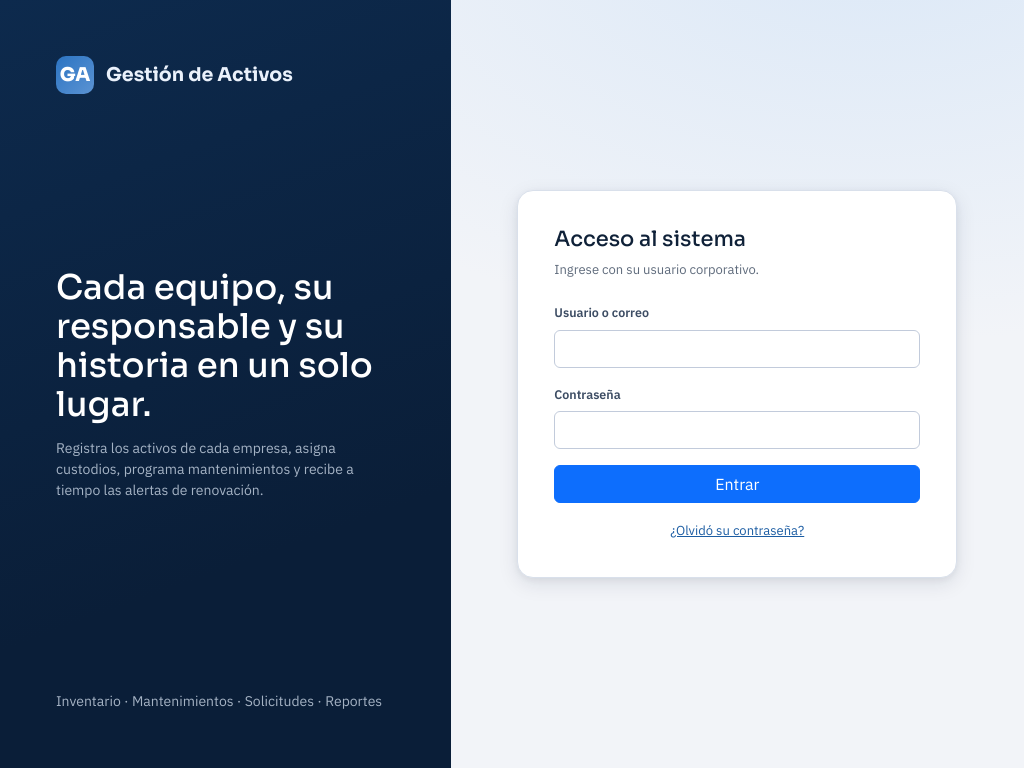
Iniciar sesión › sin respuesta del servidor tampoco se queda callado
The width and height of the screenshot is (1024, 768).
Step 1. Type "acevallos" into the field labelled "Usuario o correo" → point(737, 349), box [554, 330, 920, 368]
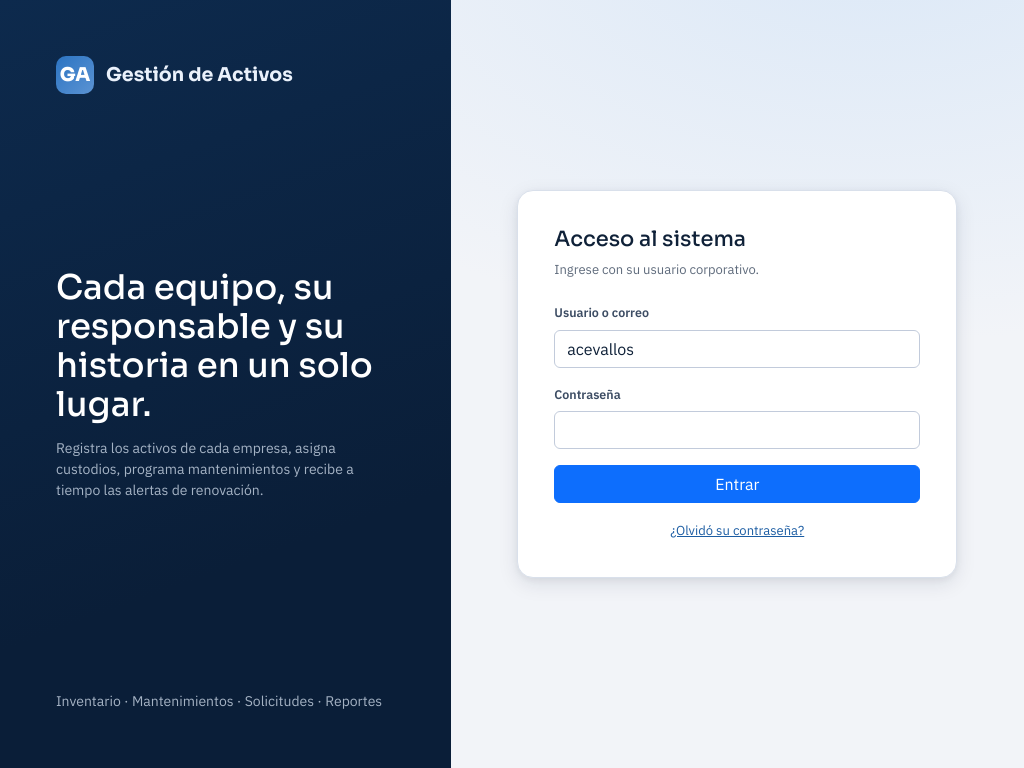
Step 2. Type "Contraseña.2026" into the password field labelled "Contraseña" → point(737, 430), box [554, 411, 920, 449]
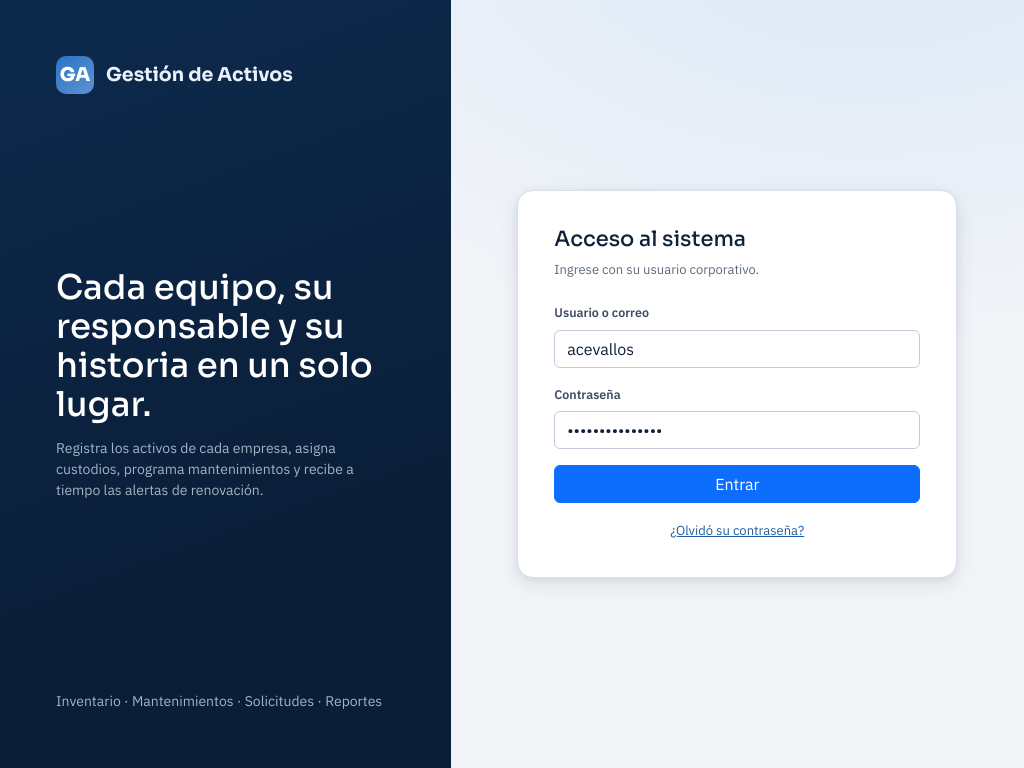
Step 3. Click the button "Entrar" → point(737, 484), box [554, 465, 920, 503]
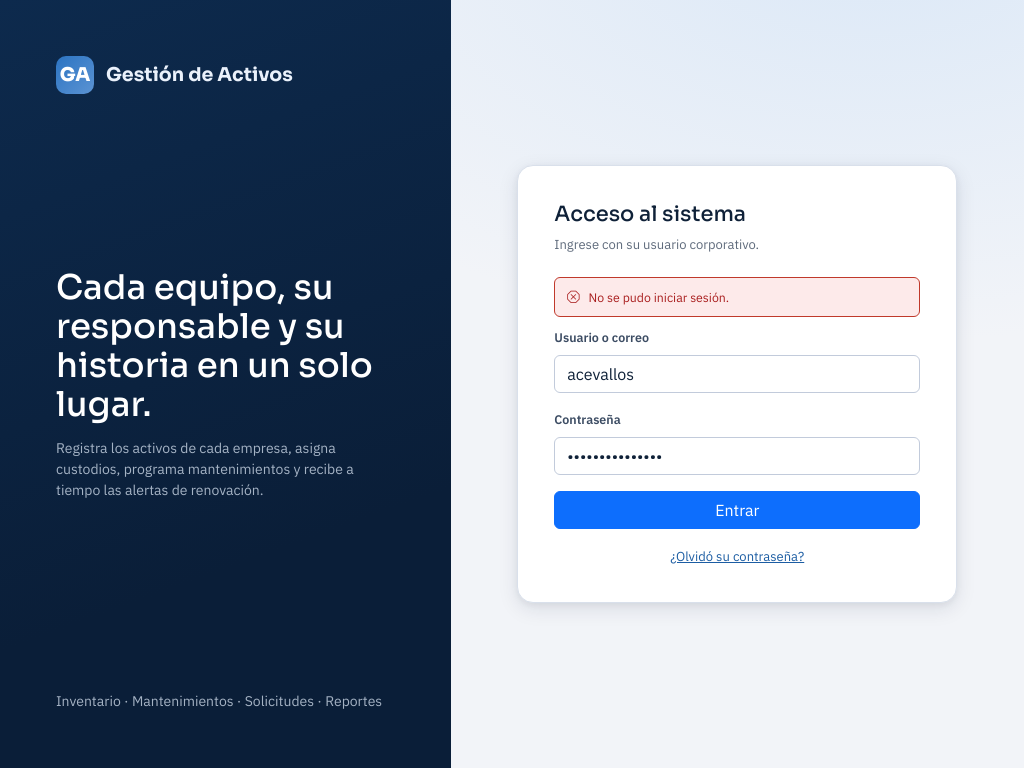
Now the text "No se pudo iniciar sesión." is shown, box [554, 277, 920, 317]
